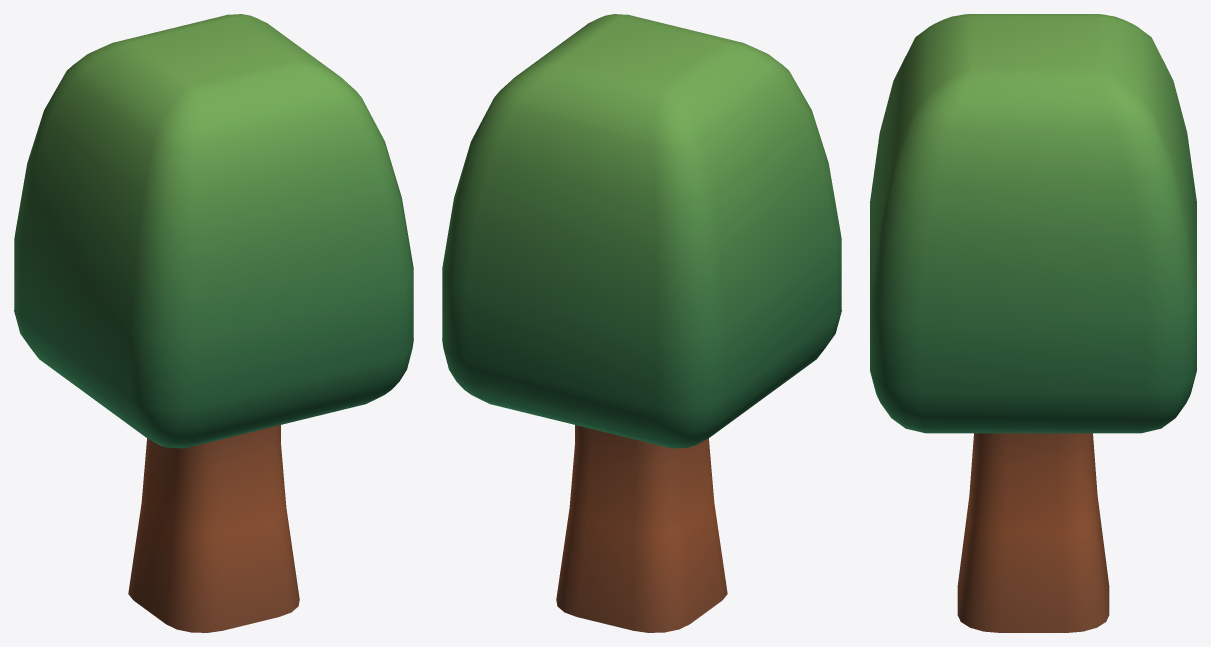
The model's file is GreenTree.fbx.
The picture shows the model from 3 angles, left to right: view 1: azimuth 30°, elevation 25°; view 2: azimuth 150°, elevation 25°; view 3: azimuth 270°, elevation 25°; orthographic projection. The views are drawn at different scales.
Parts seen in each view (by area): view 1: Cube.004; view 2: Cube.004; view 3: Cube.004.
Boxes of the visible parts, <box> form: Cube.004: <box>14,14,413,632</box>; Cube.004: <box>442,14,841,632</box>; Cube.004: <box>870,14,1196,632</box>.
Bounding box in the file's own units: 0.8741 × 1.65 × 0.8741.
